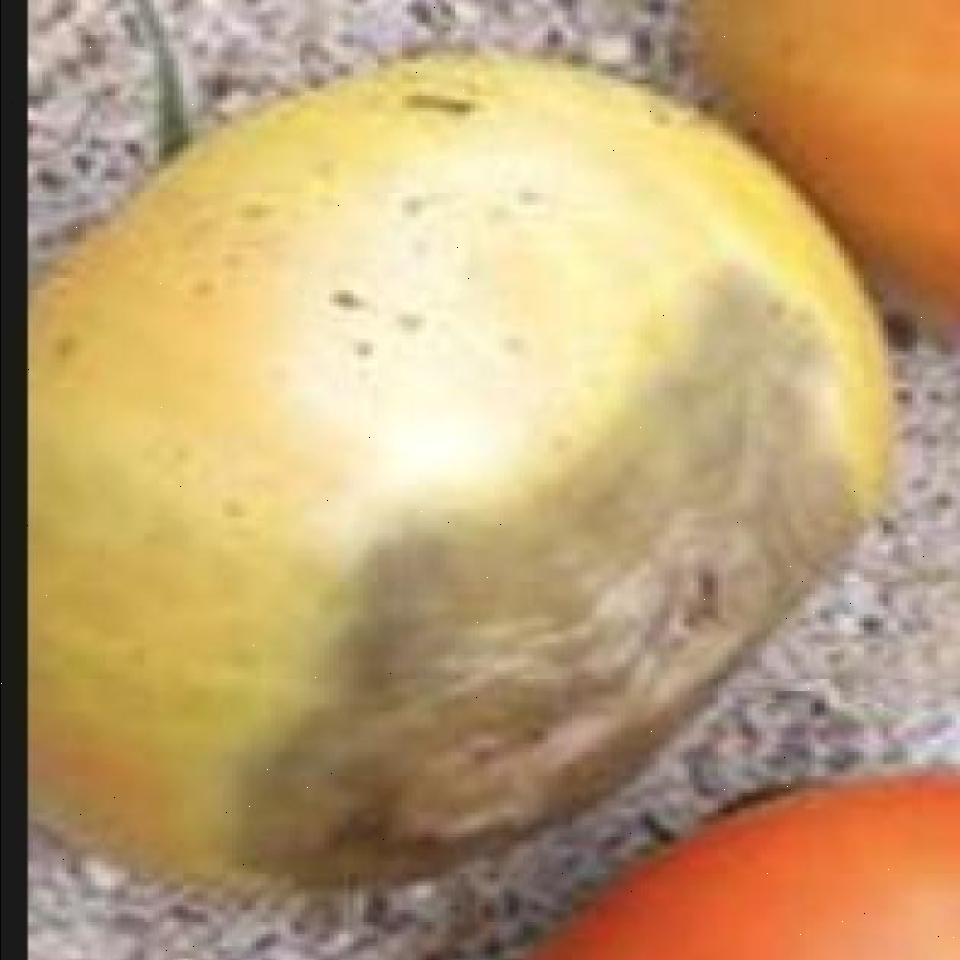Blossom_end_rot: (228, 265, 875, 894)
